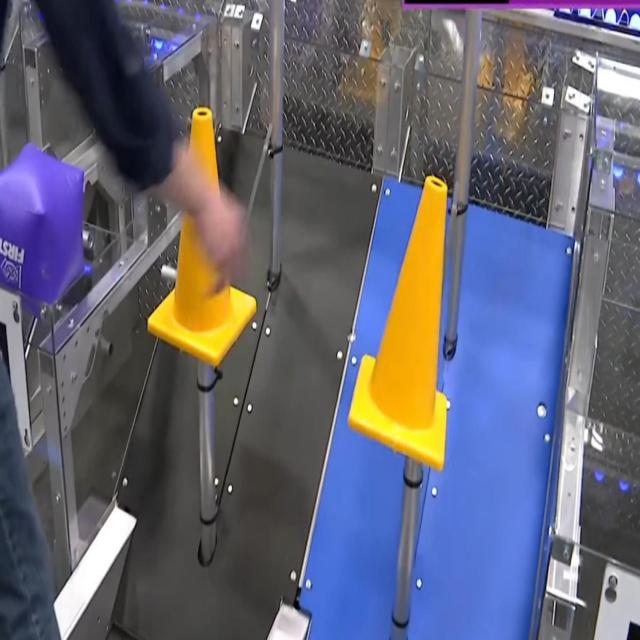frc_cone: (346, 176, 448, 474), (147, 105, 254, 364)
frc_cube: (0, 138, 88, 320)
